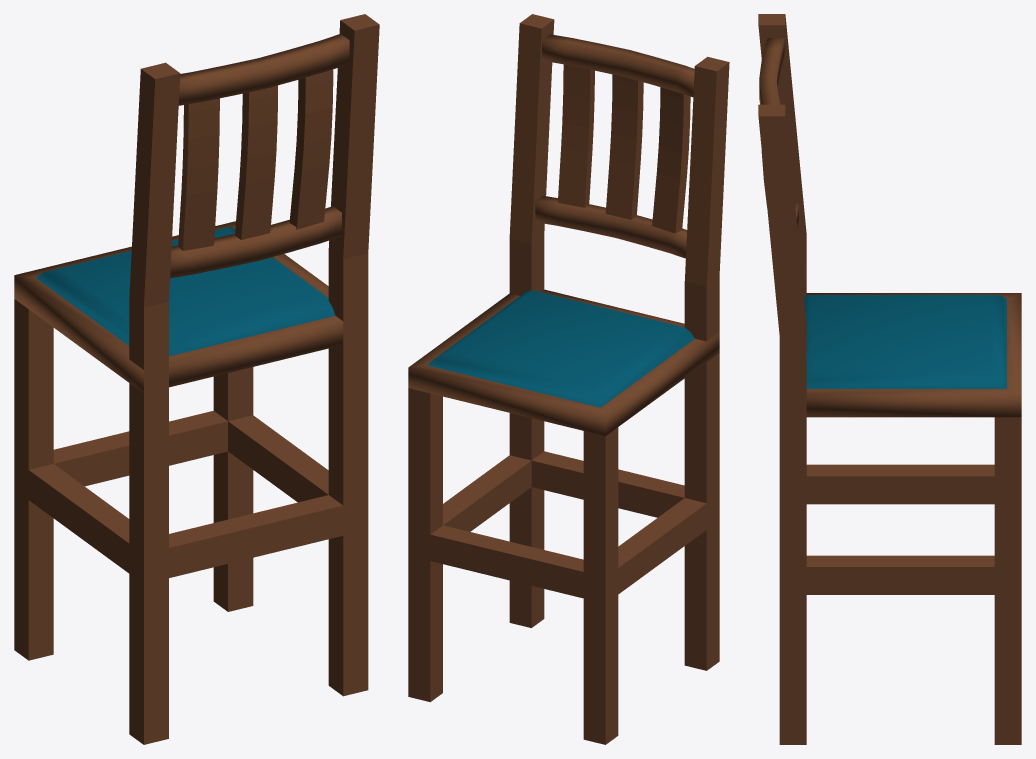
Rendered from Chair_Wood_01.glb.
The picture shows the model from 3 angles, left to right: view 1: azimuth 30°, elevation 25°; view 2: azimuth 150°, elevation 25°; view 3: azimuth 270°, elevation 25°; orthographic projection. The views are drawn at different scales.
Parts seen in each view (by area): view 1: Mesh_Chair_Wood_01; view 2: Mesh_Chair_Wood_01; view 3: Mesh_Chair_Wood_01.
Part boxes in pixels (left/top/right/bottom): Mesh_Chair_Wood_01: left=14, top=14, right=379, bottom=744; Mesh_Chair_Wood_01: left=408, top=14, right=729, bottom=744; Mesh_Chair_Wood_01: left=758, top=14, right=1021, bottom=744.
Bounding box in the file's own units: 0.3737 × 1.07 × 0.4067.
1 material, 1 textured.
